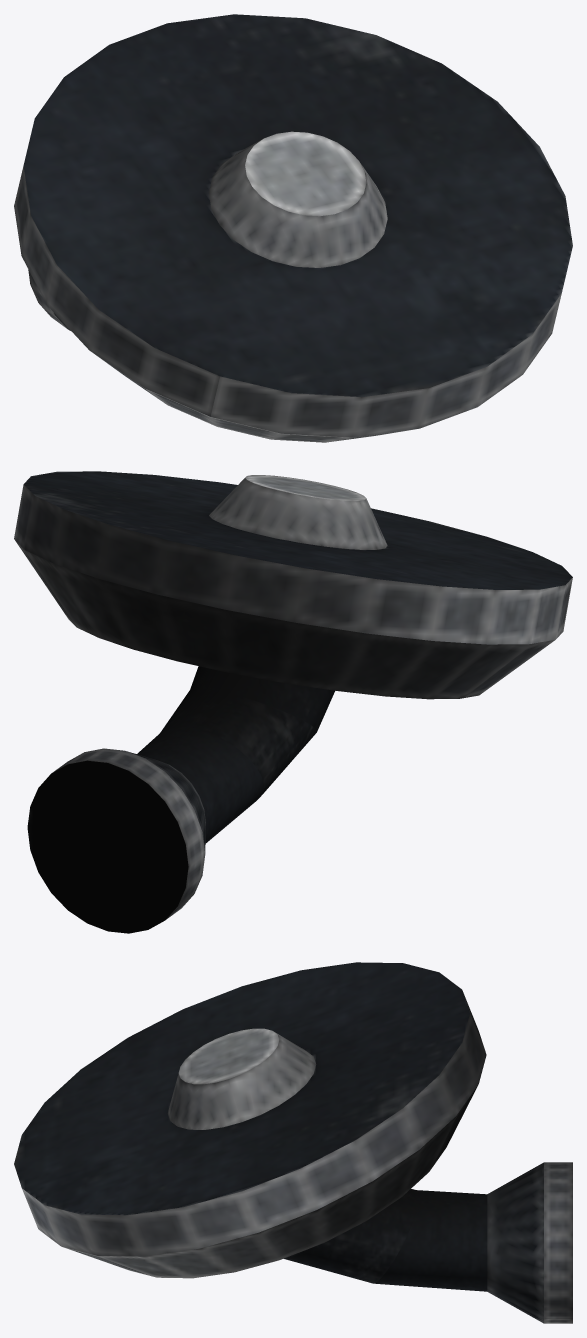
Rendered from Mothership2_Satellite.fbx.
3 renders of one model, top to bottom at view 1: azimuth 30°, elevation 25°; view 2: azimuth 150°, elevation 25°; view 3: azimuth 270°, elevation 25°, orthographic. The views are drawn at different scales.
Visible parts, largest first — view 1: Satellite; view 2: Satellite; view 3: Satellite.
Boxes of the visible parts, <box> form: Satellite: <box>14,14,572,442</box>; Satellite: <box>14,471,572,933</box>; Satellite: <box>14,962,572,1323</box>.
Size of the model in its own units: 0.6 by 0.4129 by 0.6911.
1 material, 1 textured.
